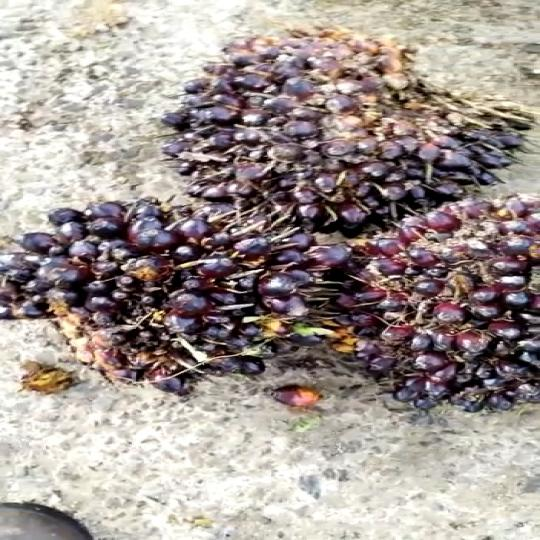kurang masak: (7, 195, 361, 408), (173, 33, 540, 215), (307, 175, 540, 418)
